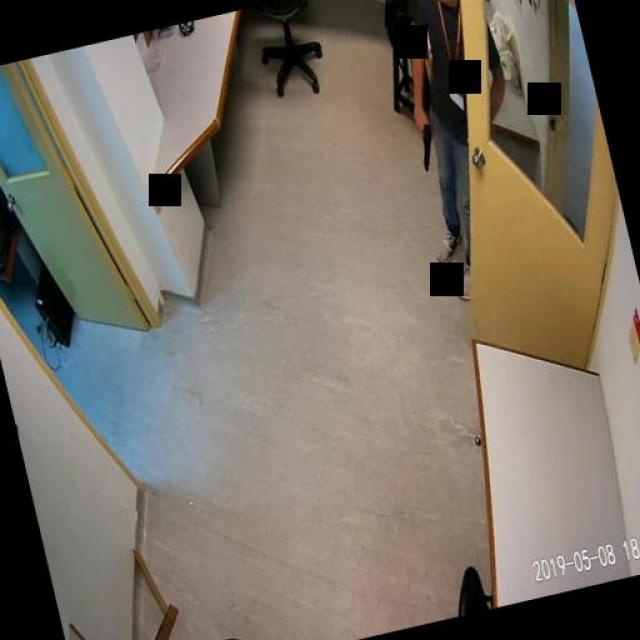gun: (412, 118, 438, 172)
